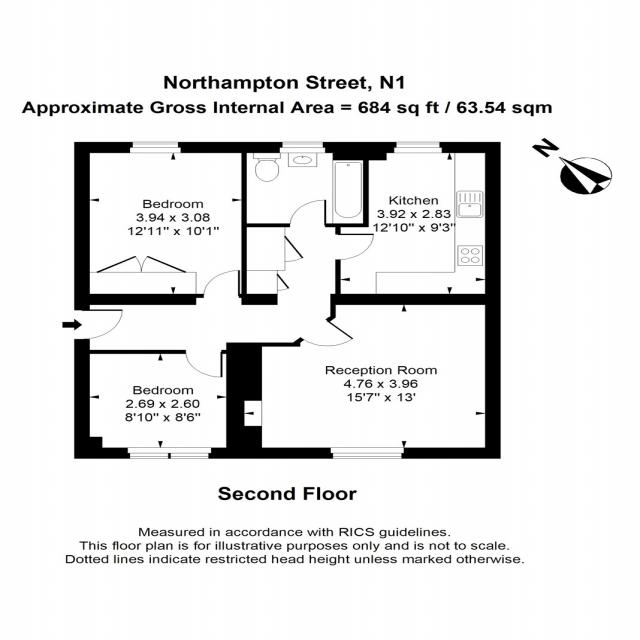DOOR: (73, 309, 124, 341), (299, 318, 355, 347), (184, 349, 224, 378), (334, 233, 375, 261), (202, 269, 241, 298), (289, 199, 328, 228)
ROOM: (225, 293, 502, 459), (73, 141, 248, 305), (330, 142, 501, 305), (74, 350, 263, 459)
WINDOW: (127, 447, 212, 459), (330, 447, 404, 459), (129, 141, 182, 154), (394, 141, 442, 154), (279, 141, 326, 154)
